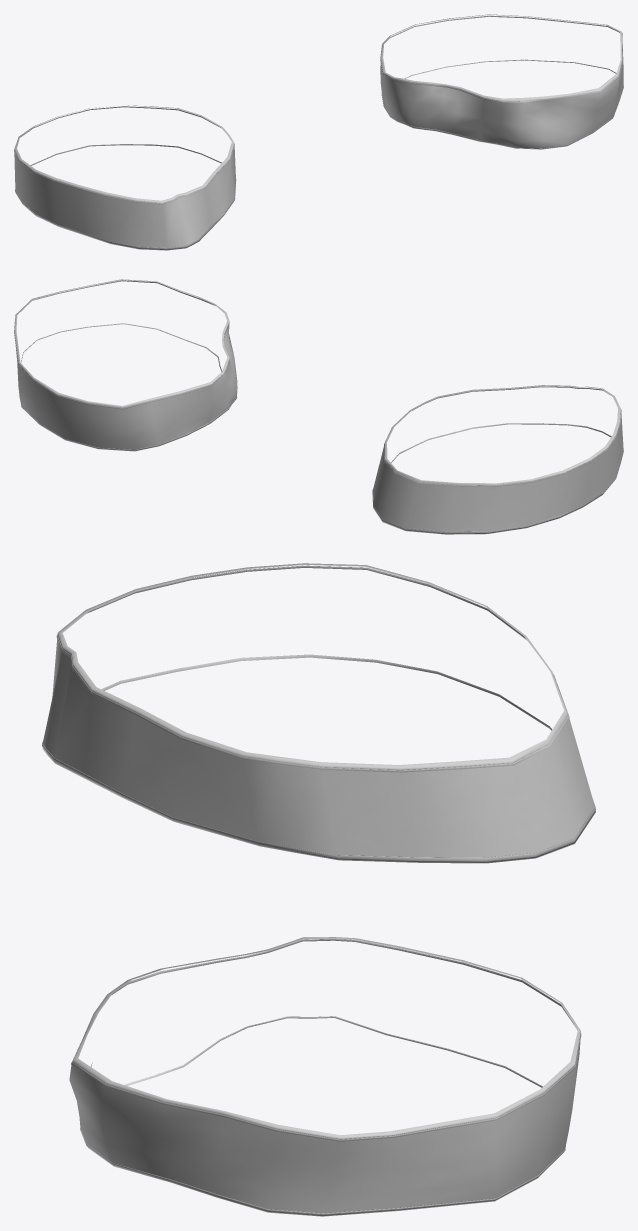
The model's file is Pants_COP_UNDERKnee.glb.
3 views of the same model, one above another, from view 1: azimuth 30°, elevation 25°; view 2: azimuth 150°, elevation 25°; view 3: azimuth 270°, elevation 25° (orthographic). The views are drawn at different scales.
Visible parts, largest first — view 1: Pants_COP_UNDERKnee1, Rope1; view 2: Pants_COP_UNDERKnee1, Rope1; view 3: Pants_COP_UNDERKnee1, Rope1.
Boxes of the visible parts, left/top/right/bottom form: Pants_COP_UNDERKnee1: left=14, top=14, right=623, bottom=250; Rope1: left=14, top=15, right=623, bottom=248; Pants_COP_UNDERKnee1: left=14, top=279, right=623, bottom=534; Rope1: left=14, top=280, right=623, bottom=532; Pants_COP_UNDERKnee1: left=42, top=563, right=595, bottom=1216; Rope1: left=42, top=565, right=595, bottom=1214.
Bounding box in the file's own units: 0.7514 × 0.0816 × 0.3093.
Materials: 2 (2 with a texture image).
